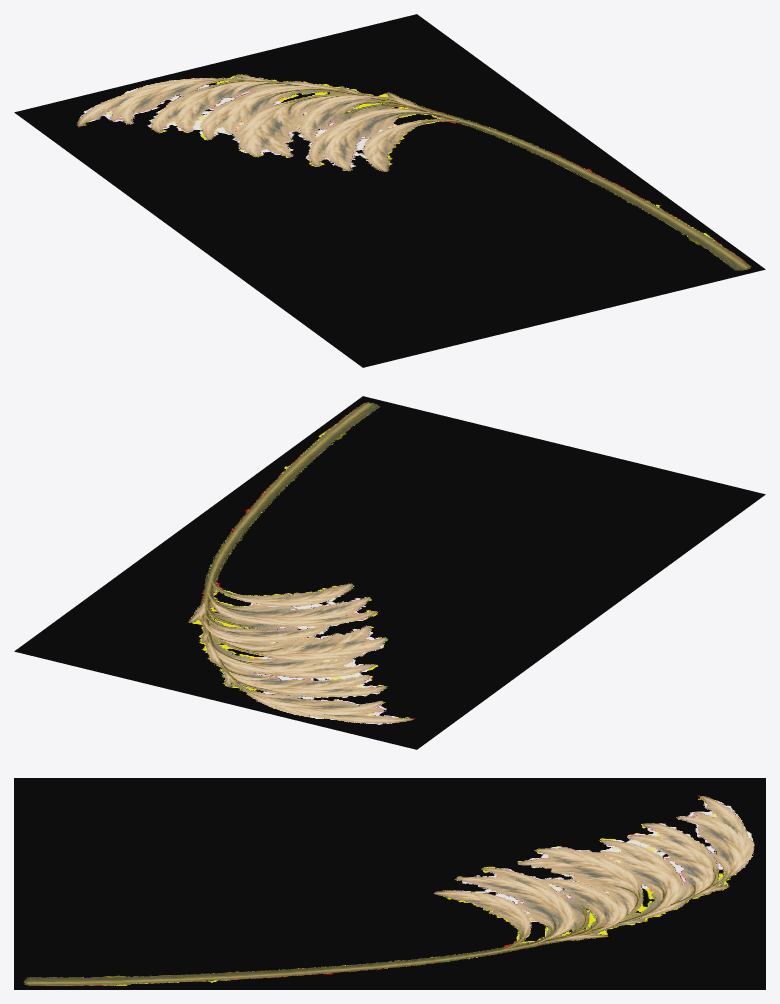
File: Reed.fbx
The picture shows the model from 3 angles, top to bottom: view 1: azimuth 30°, elevation 25°; view 2: azimuth 150°, elevation 25°; view 3: azimuth 270°, elevation 25°; orthographic projection. The views are drawn at different scales.
Parts seen in each view (by area): view 1: Plane001; view 2: Plane001; view 3: Plane001.
Part boxes in pixels (<box>): Plane001: <box>14,14,765,367</box>; Plane001: <box>14,396,765,749</box>; Plane001: <box>14,778,765,989</box>.
Bounding box in the file's own units: 10.24 × 9.41e-16 × 15.36.
